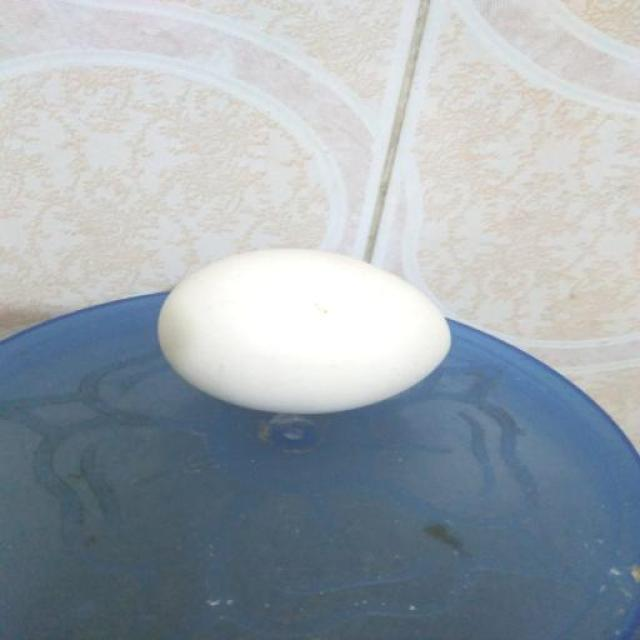telur: (158, 246, 451, 415)
